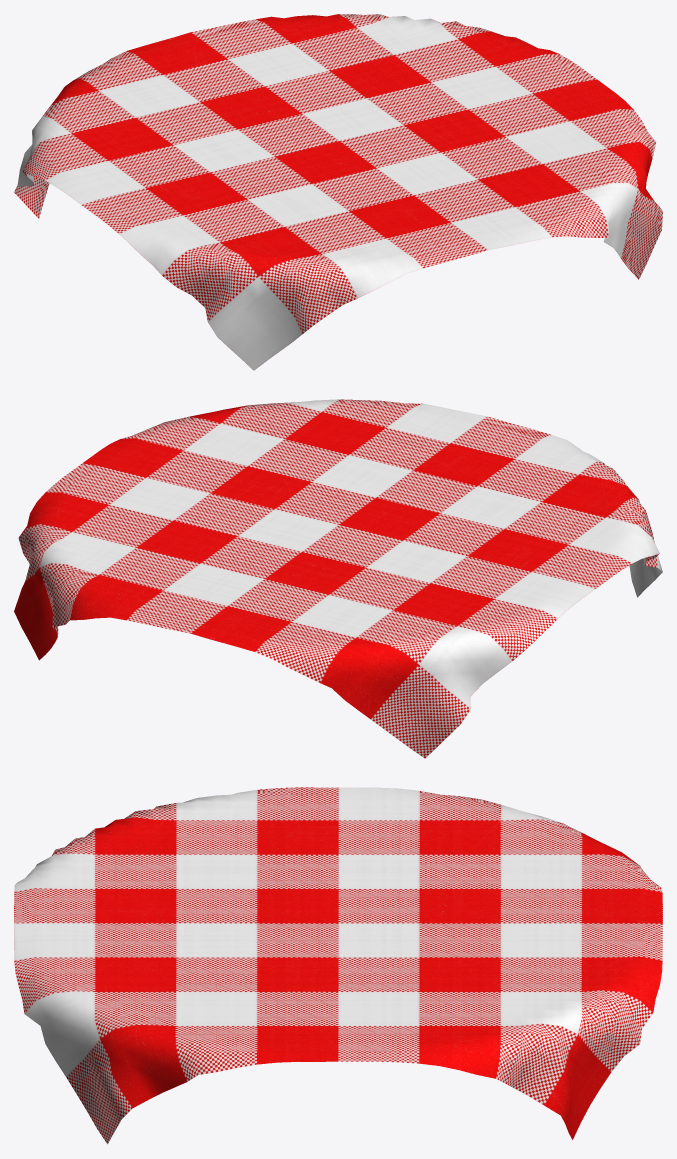
The model's file is TableCloth.fbx.
3 renders of one model, top to bottom at view 1: azimuth 30°, elevation 25°; view 2: azimuth 150°, elevation 25°; view 3: azimuth 270°, elevation 25°, orthographic. The views are drawn at different scales.
Parts seen in each view (by area): view 1: TableCloth; view 2: TableCloth; view 3: TableCloth.
Part boxes in pixels (bbox=[...]): TableCloth: bbox=[14, 14, 662, 370]; TableCloth: bbox=[14, 399, 662, 758]; TableCloth: bbox=[14, 787, 662, 1144].
Size of the model in its own units: 1.4 by 0.2892 by 1.4.
